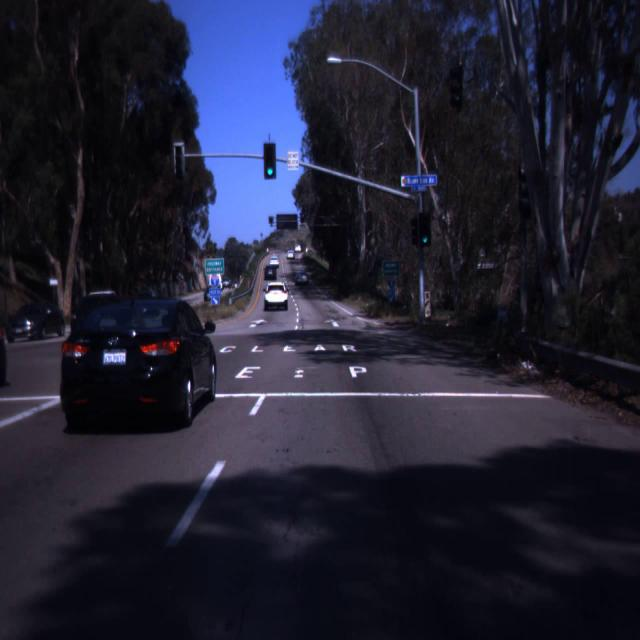yesil: (418, 212, 431, 246), (264, 143, 276, 179)
